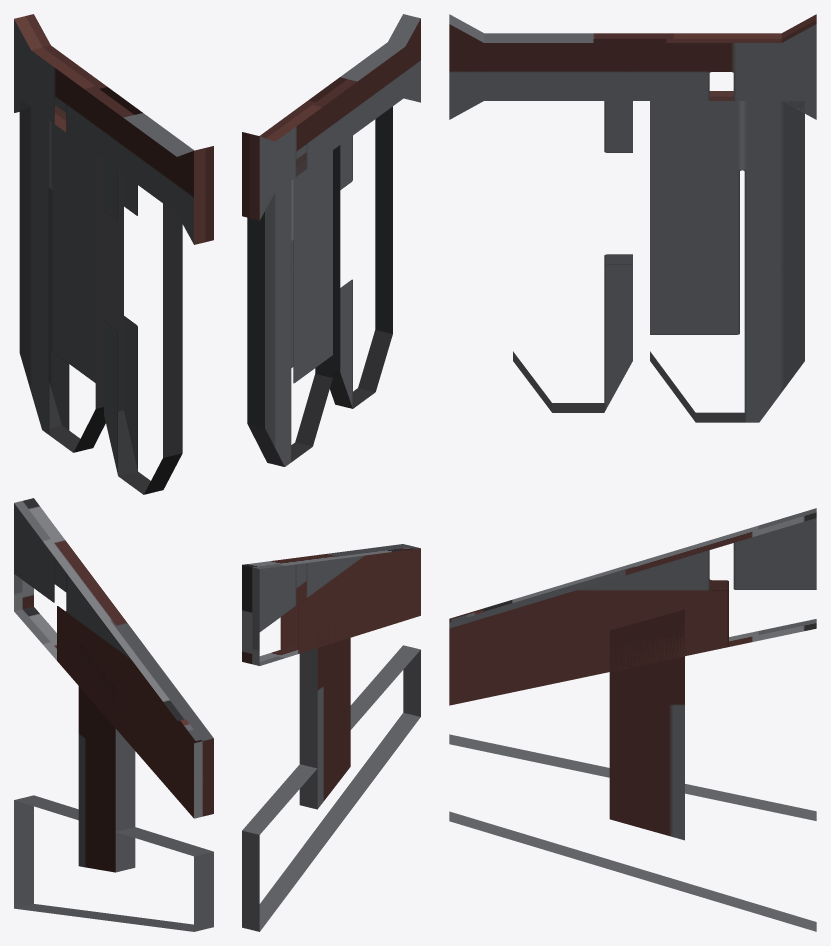
Rendered from section-0.obj.
3 renders of one model, left to right at view 1: azimuth 30°, elevation 25°; view 2: azimuth 150°, elevation 25°; view 3: azimuth 270°, elevation 25°, orthographic. The views are drawn at different scales.
Size of the model in its own units: 0.022 by 0.943 by 0.346.
